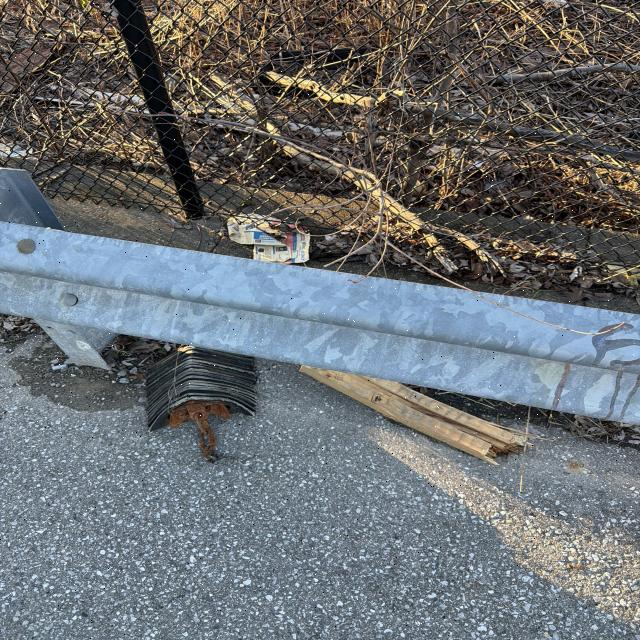Guard rail: (7, 189, 609, 408)
